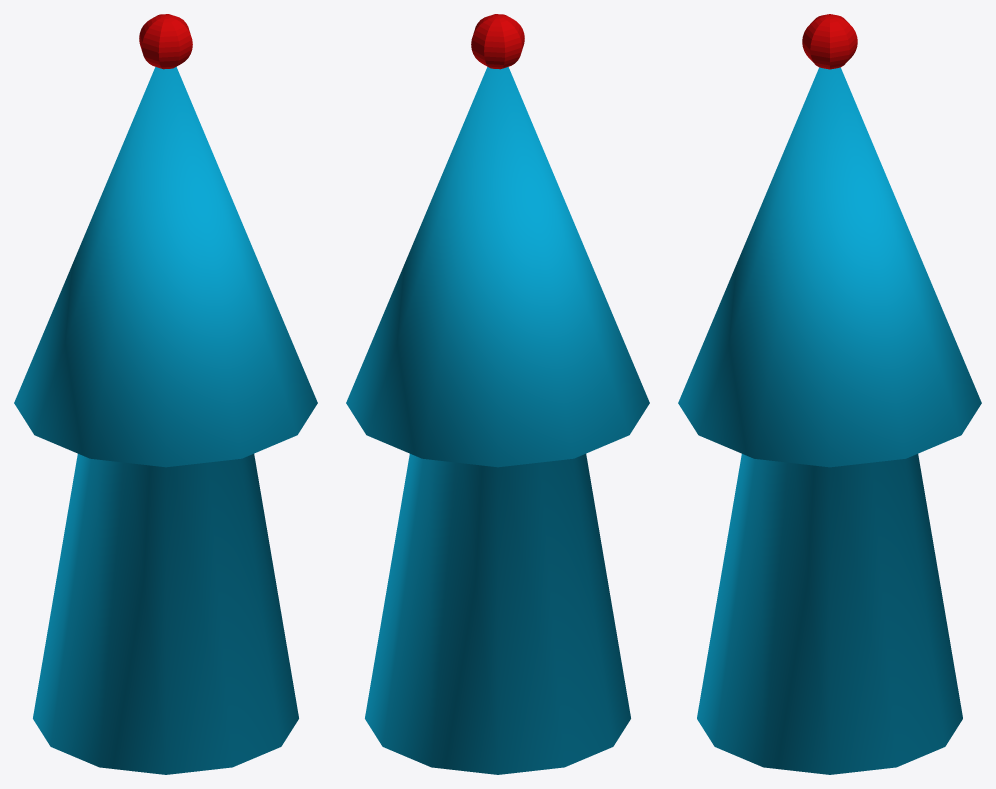
The model's file is touchpointer.fbx.
The picture shows the model from 3 angles, left to right: view 1: azimuth 30°, elevation 25°; view 2: azimuth 150°, elevation 25°; view 3: azimuth 270°, elevation 25°; orthographic projection.
Parts seen in each view (by area): view 1: Arrow, Origin; view 2: Arrow, Origin; view 3: Arrow, Origin.
Boxes of the visible parts, box(x1,y1,x2,y2) form: Arrow: box(14, 67, 317, 774); Origin: box(139, 14, 192, 69); Arrow: box(346, 67, 649, 774); Origin: box(471, 14, 524, 69); Arrow: box(678, 67, 981, 774); Origin: box(802, 14, 857, 69).
Bounding box in the file's own units: 39.93 × 102 × 39.93.
